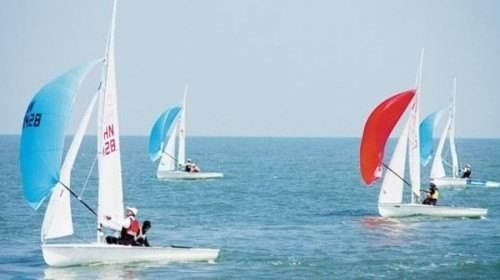fanchuan: (18, 1, 220, 264), (359, 50, 480, 218), (420, 78, 498, 188), (151, 91, 224, 181)
person: (95, 206, 141, 243), (132, 220, 157, 247), (414, 184, 444, 206)
